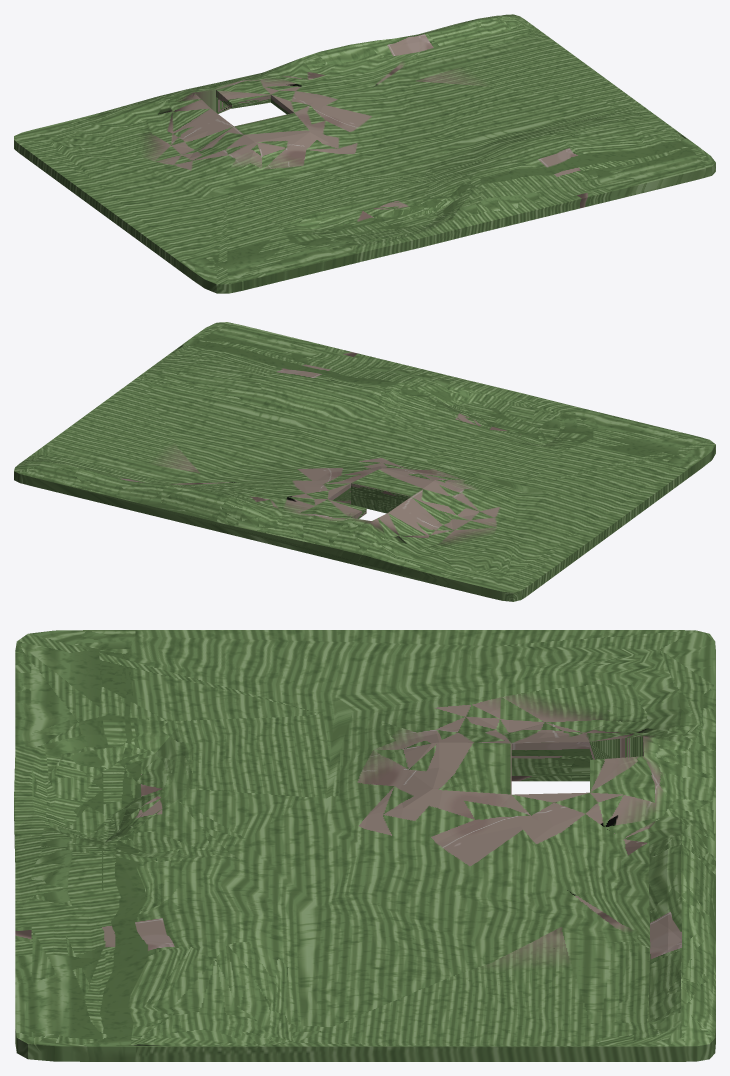
Rendered from GRASS3.glb.
3 views of the same model, one above another, from view 1: azimuth 30°, elevation 25°; view 2: azimuth 150°, elevation 25°; view 3: azimuth 270°, elevation 25° (orthographic). The views are drawn at different scales.
Visible parts, largest first — view 1: grass; view 2: grass; view 3: grass.
Part boxes in pixels (<box>): grass: <box>14,14,715,293</box>; grass: <box>14,322,715,601</box>; grass: <box>14,630,715,1061</box>.
Size of the model in its own units: 108 by 5.52 by 77.24.
1 material, 1 textured.
